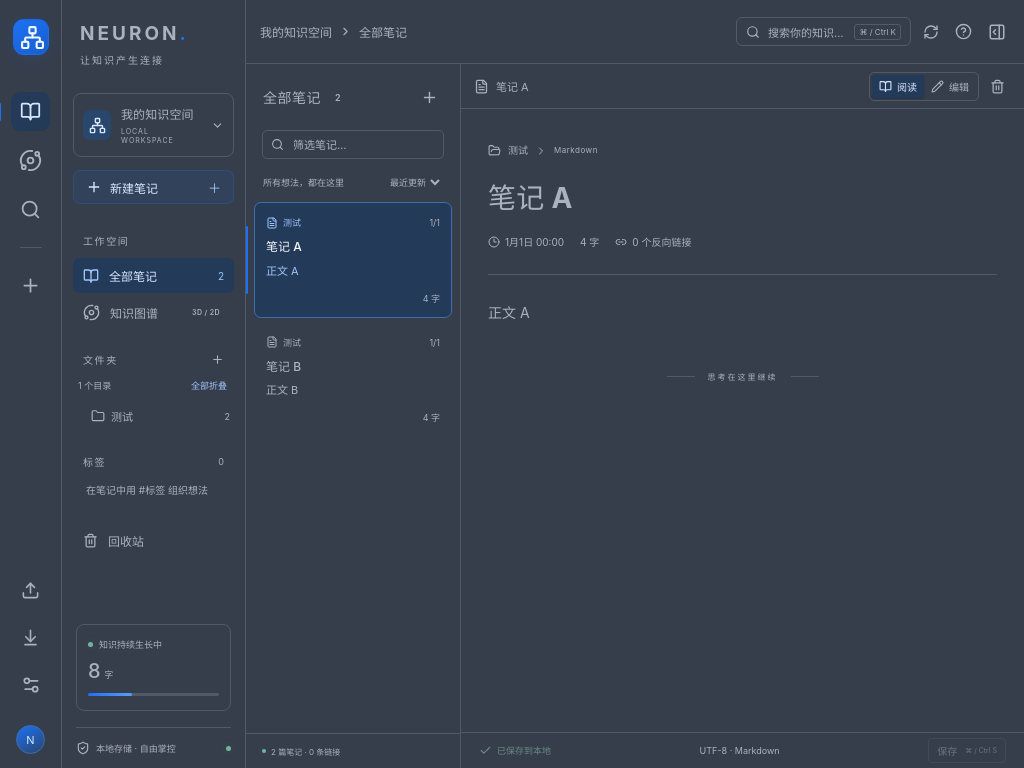
Test: retrying a failed connection retains the unsaved-change confirmation
The image size is (1024, 768).
Click the button named "重新读取本地文件" at (930, 32), box [917,18,944,45]
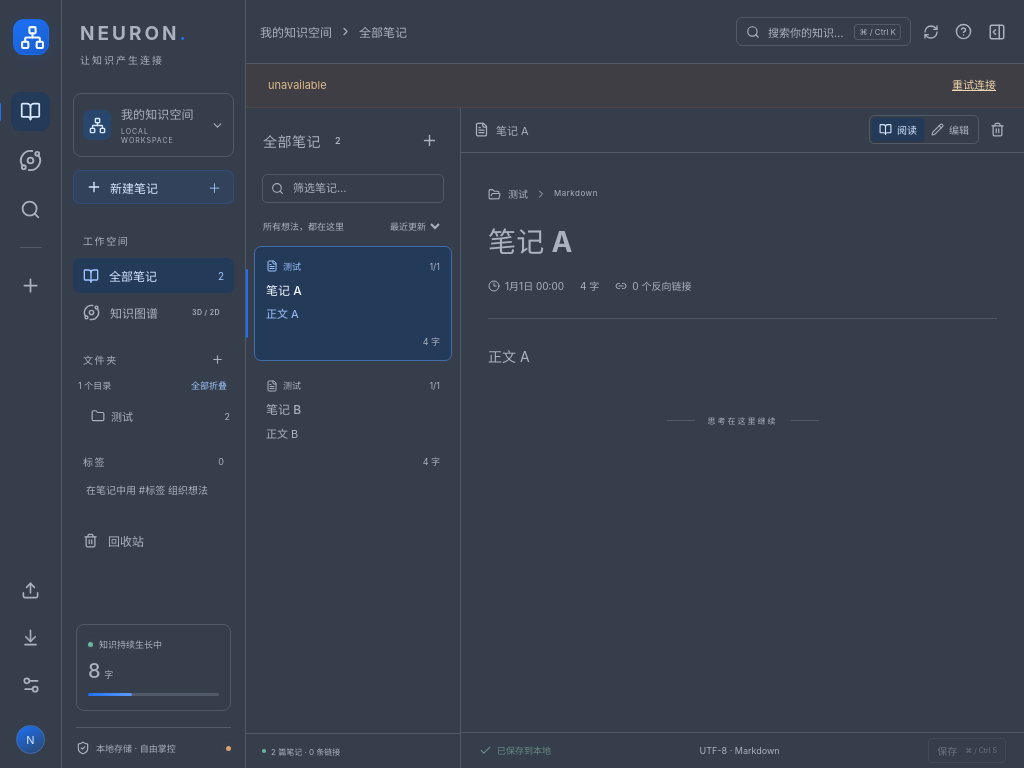
Click the button "编辑" at (950, 130), box [924,118,976,141]
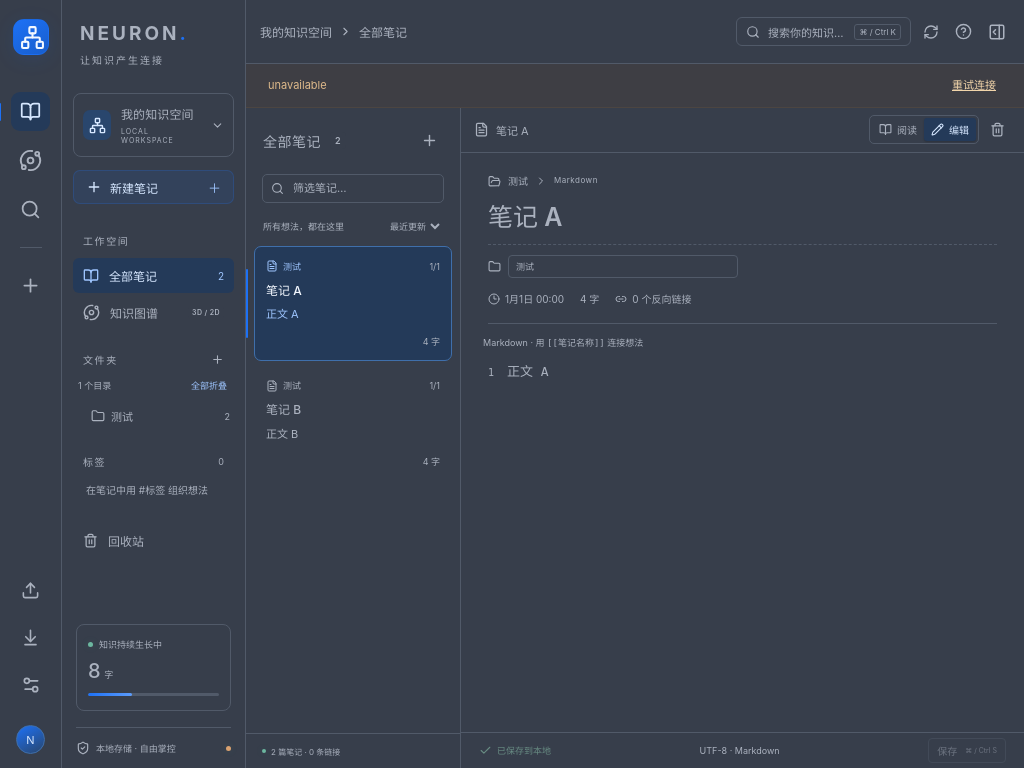
Replace the text in the text box named "Markdown 笔记正文" with "不能被重试覆盖的草稿" at (764, 538), box [503,359,1023,716]
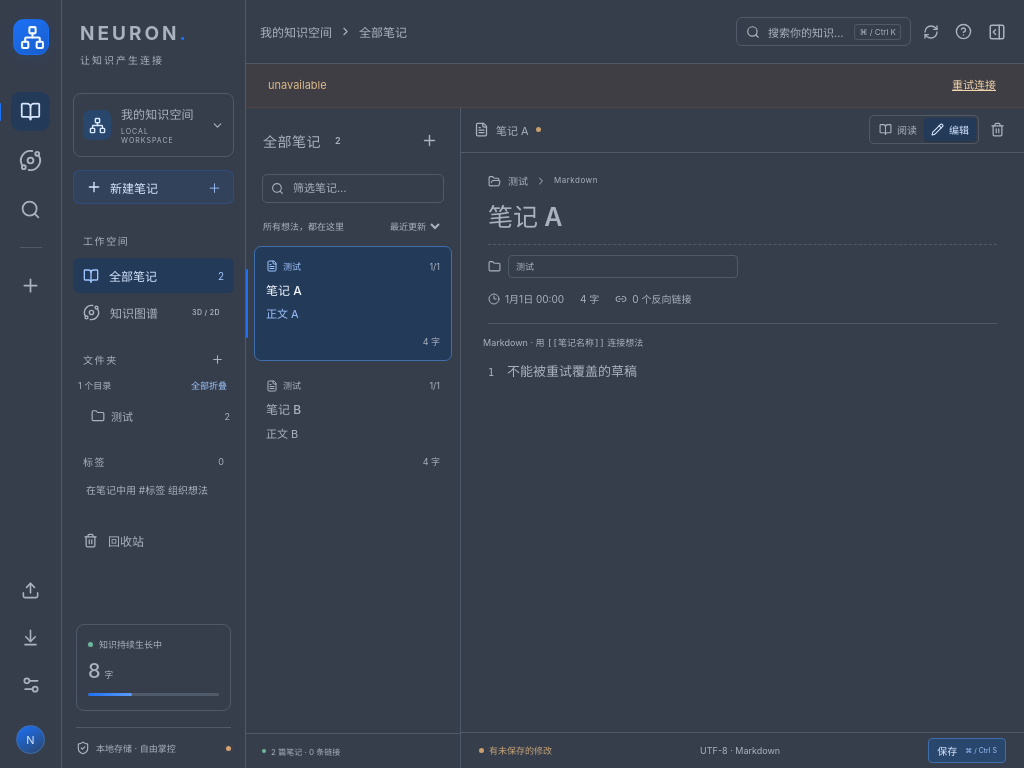
Click the button "重试连接" at (974, 85), box [946,75,1002,96]
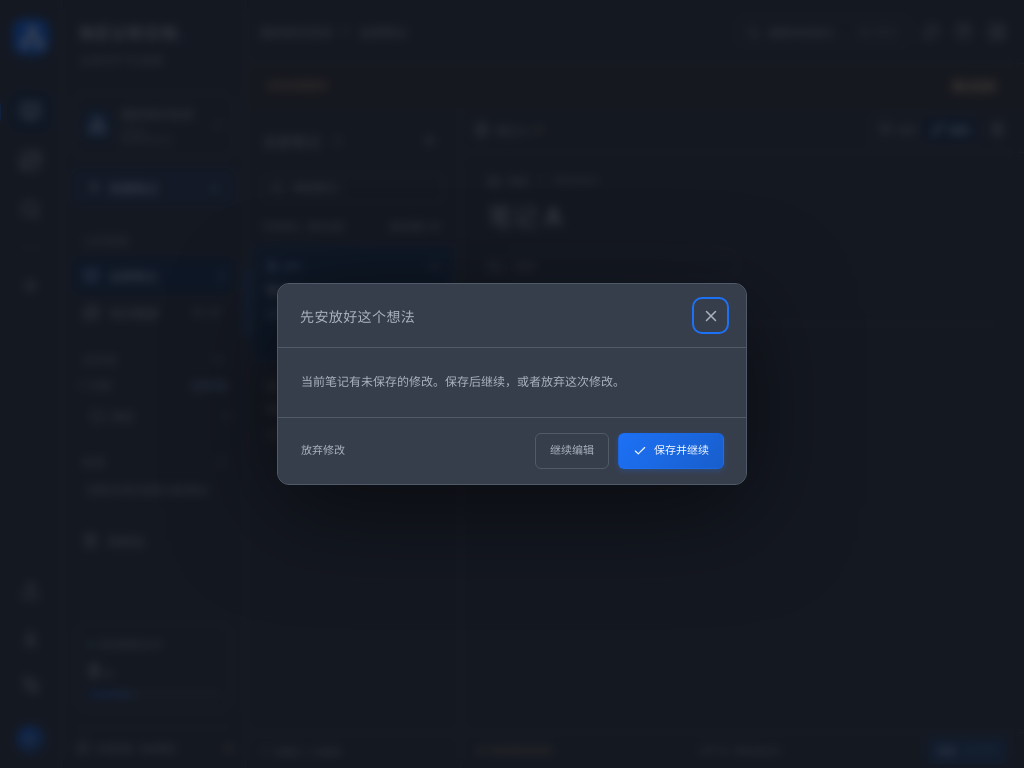
expect the heading "先安放好这个想法" is shown: met, box [300,306,415,326]
